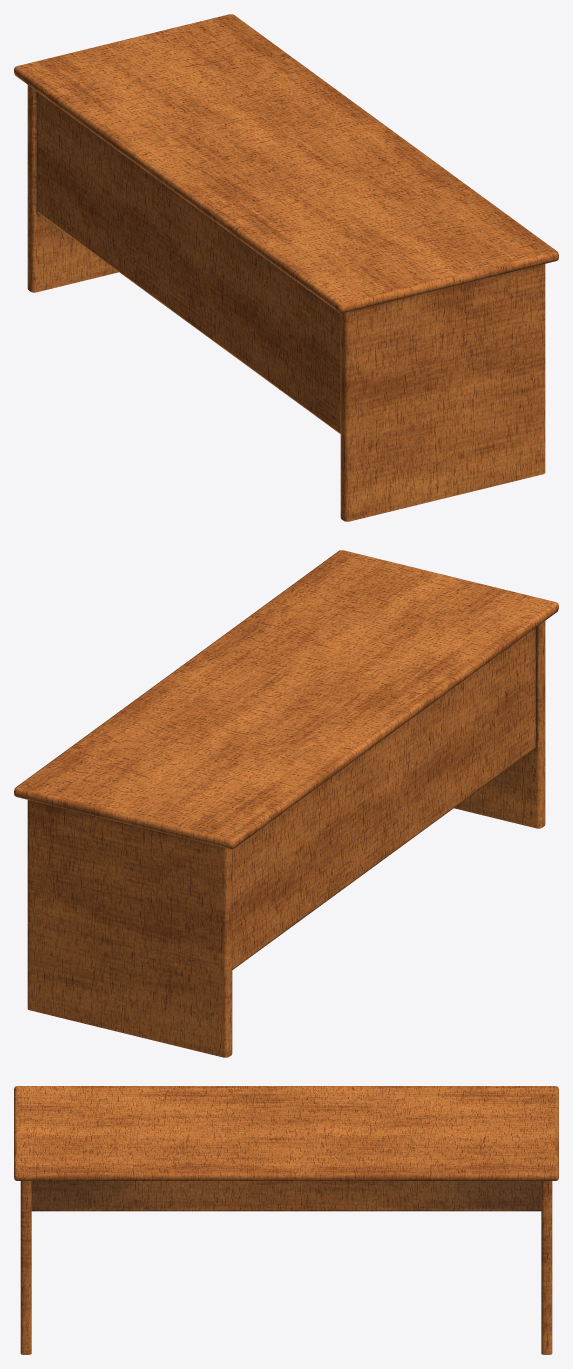
The model's file is Table2.glb.
3 renders of one model, top to bottom at view 1: azimuth 30°, elevation 25°; view 2: azimuth 150°, elevation 25°; view 3: azimuth 270°, elevation 25°, orthographic. The views are drawn at different scales.
Parts seen in each view (by area): view 1: Cube.014; view 2: Cube.014; view 3: Cube.014.
Part boxes in pixels (bbox=[...]): Cube.014: bbox=[14, 14, 558, 521]; Cube.014: bbox=[14, 550, 558, 1057]; Cube.014: bbox=[14, 1086, 558, 1354].
Size of the model in its own units: 0.5971 by 0.5753 by 1.54.
1 material, 1 textured.
